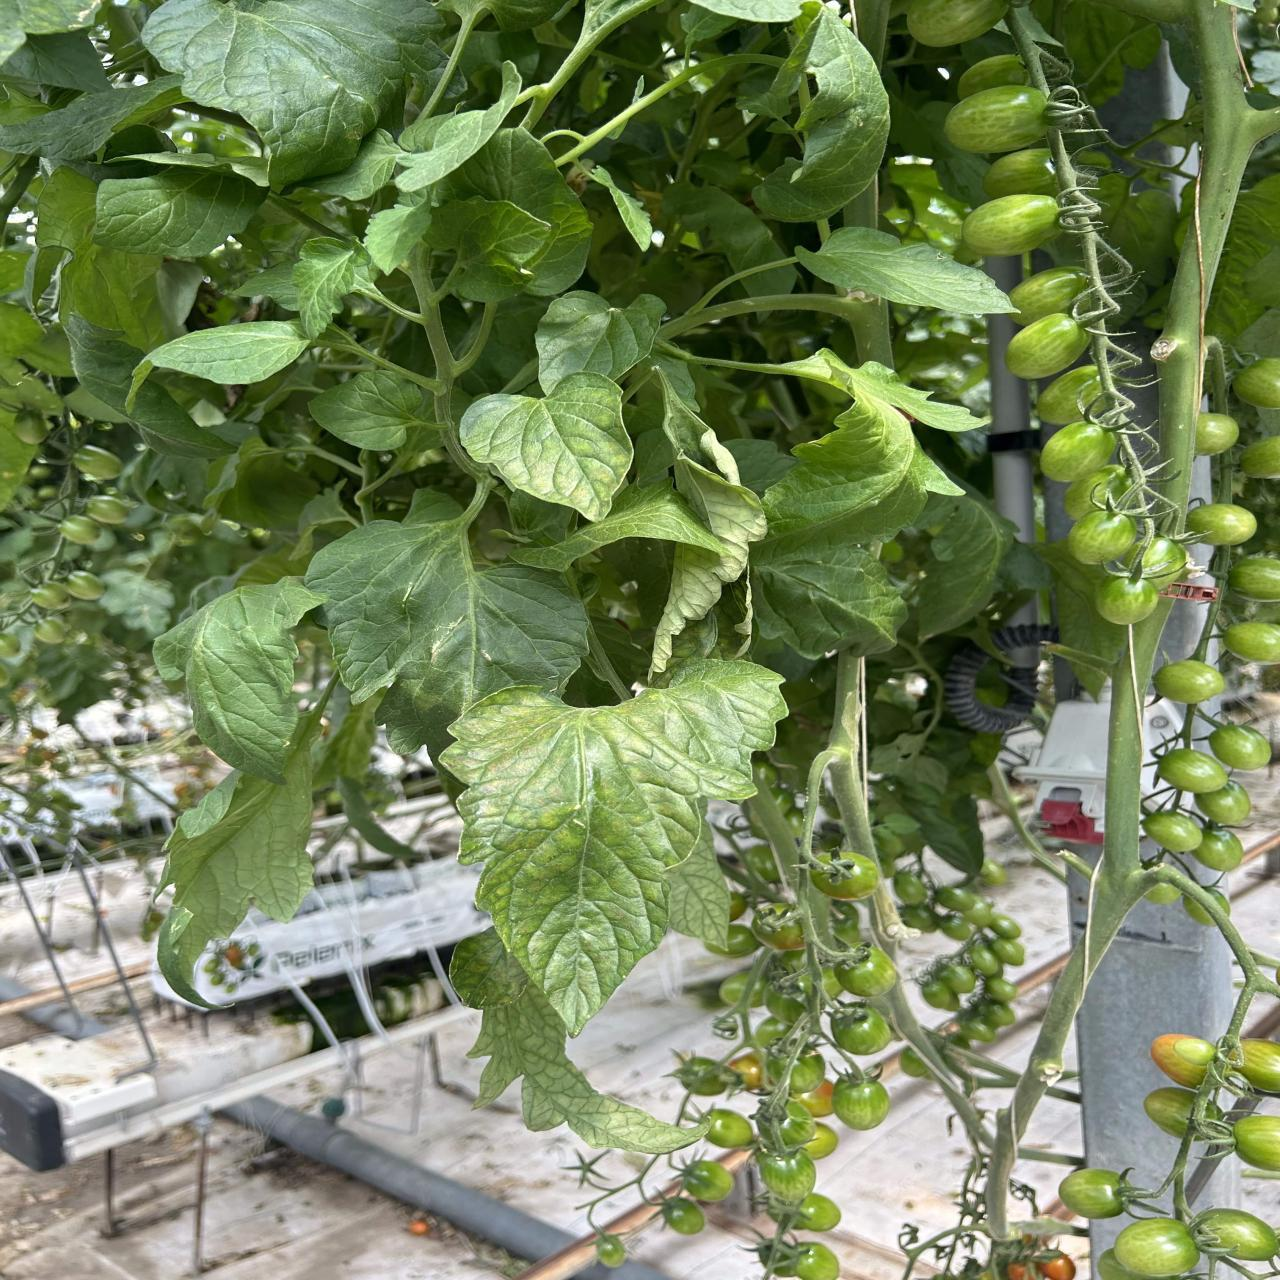Rugose leaf: (439, 661, 783, 1035), (141, 0, 446, 188), (452, 930, 703, 1154), (648, 366, 767, 685), (459, 371, 633, 521), (292, 238, 367, 339)
Rugose tomato: (945, 85, 1046, 153), (962, 194, 1059, 256), (1006, 313, 1089, 379), (1114, 1218, 1199, 1277), (908, 0, 1008, 47), (1041, 419, 1115, 482), (1010, 266, 1086, 325), (1196, 1209, 1280, 1261), (1036, 365, 1100, 424), (1068, 510, 1137, 564), (984, 148, 1055, 199), (1151, 1034, 1215, 1090), (1064, 465, 1121, 522), (1154, 660, 1225, 705), (1093, 575, 1158, 624), (756, 1150, 816, 1203), (1159, 748, 1228, 794), (811, 853, 878, 900), (831, 1003, 891, 1055), (1059, 1169, 1122, 1218), (958, 55, 1028, 99), (835, 947, 896, 997), (1187, 504, 1257, 545), (833, 1080, 889, 1130), (1209, 725, 1271, 770), (1142, 810, 1203, 853), (751, 902, 805, 950), (1233, 1116, 1280, 1170), (1144, 1088, 1194, 1138), (1195, 782, 1251, 826), (1223, 622, 1280, 664), (1230, 555, 1280, 600), (1238, 1039, 1280, 1092), (681, 1160, 734, 1202), (1192, 829, 1243, 872), (703, 1108, 754, 1148), (792, 1193, 841, 1232), (779, 1100, 817, 1147), (792, 1243, 840, 1280), (661, 1195, 705, 1235), (789, 1049, 825, 1096), (596, 1233, 626, 1267), (764, 1049, 786, 1087)
